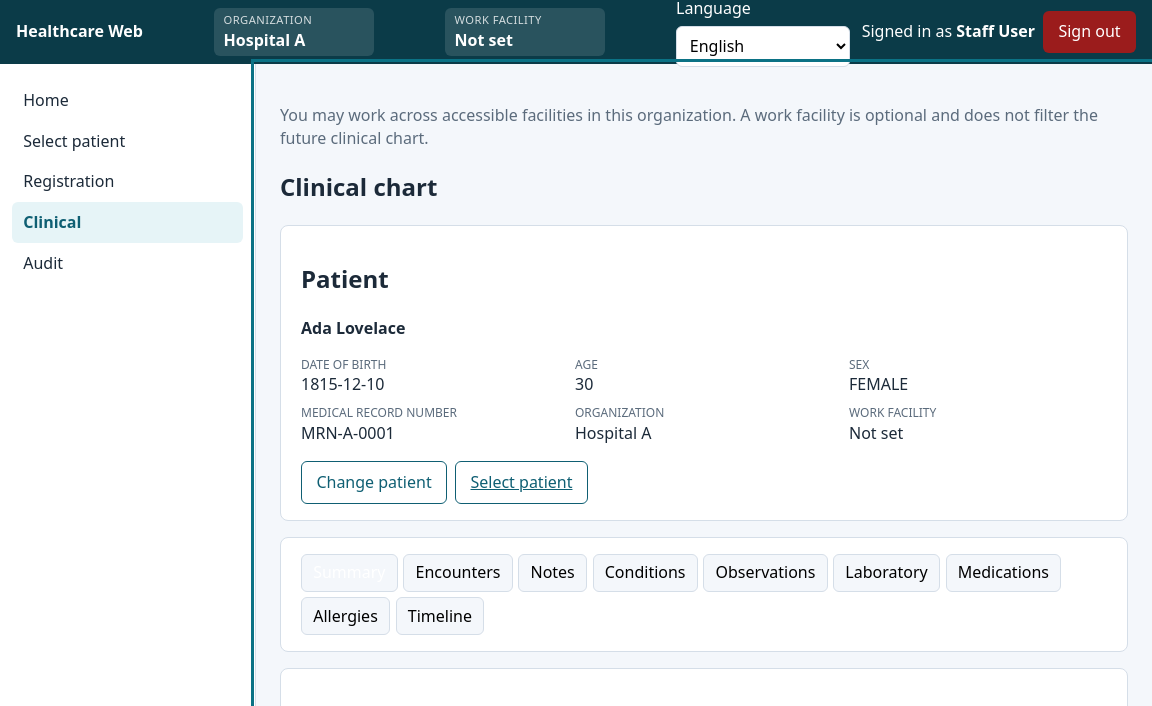
clinical chart PHI wipe and cache keys › wipes selected patient and clinical cache on 401
Click the button "Conditions": {"x": 645, "y": 573} [593, 554, 698, 592]
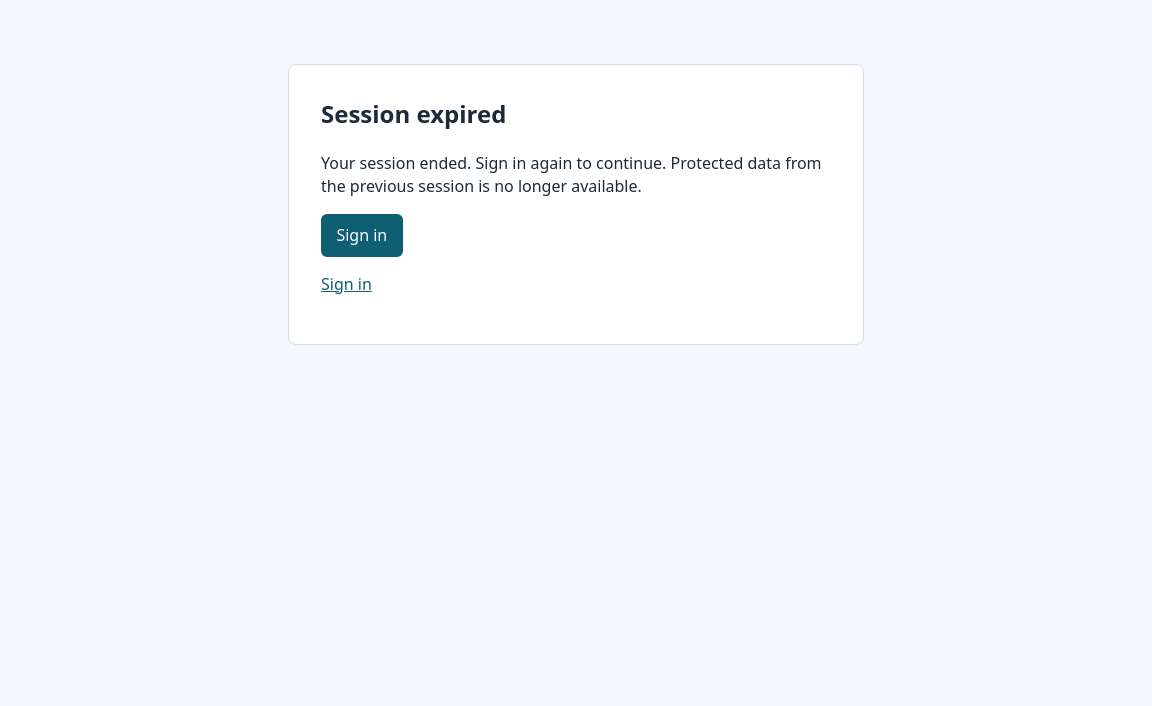
Result: the heading "Session expired" is shown at [321, 97, 506, 130]
